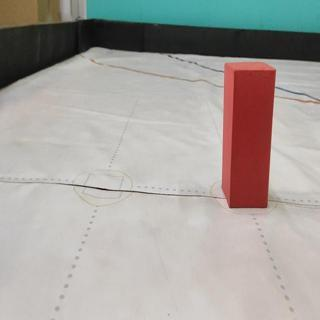redbox: (220, 61, 277, 209)
